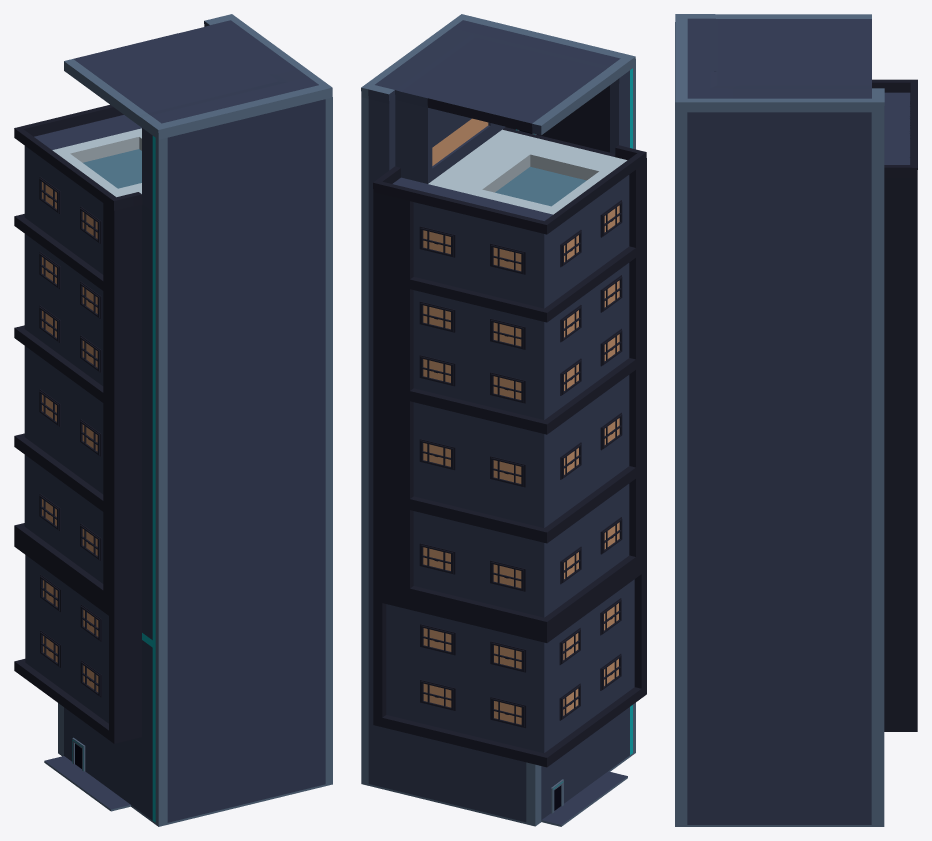
The model's file is Building_Skyscraper01.fbx.
3 renders of one model, left to right at view 1: azimuth 30°, elevation 25°; view 2: azimuth 150°, elevation 25°; view 3: azimuth 270°, elevation 25°, orthographic. The views are drawn at different scales.
Visible parts, largest first — view 1: Cube.447; view 2: Cube.447; view 3: Cube.447.
Boxes of the visible parts, x1,y1,x2,y2 form: Cube.447: (14, 14, 332, 826); Cube.447: (361, 14, 646, 826); Cube.447: (675, 14, 917, 826).
Size of the model in its own units: 1280 by 4220 by 1282.
